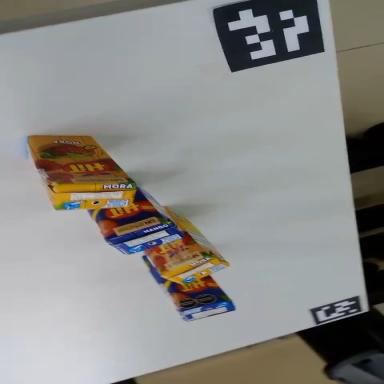HIT-MANGO: (134, 232, 237, 339), (87, 181, 185, 264)
HIT-MORA: (127, 201, 230, 305), (28, 133, 137, 211)
cara_F: (138, 232, 231, 330), (128, 207, 209, 288), (29, 136, 136, 186), (84, 181, 166, 242)
